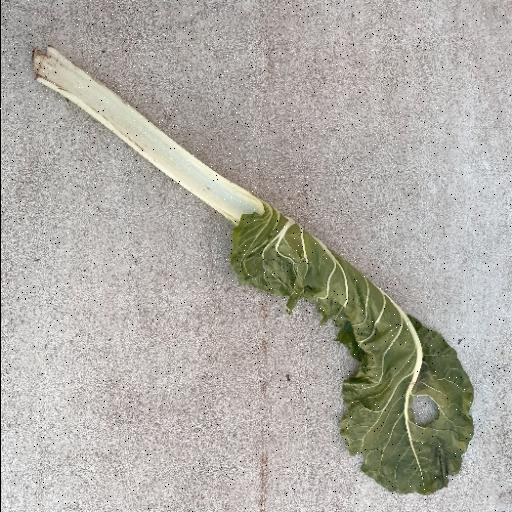Waste: (30, 42, 476, 496)
